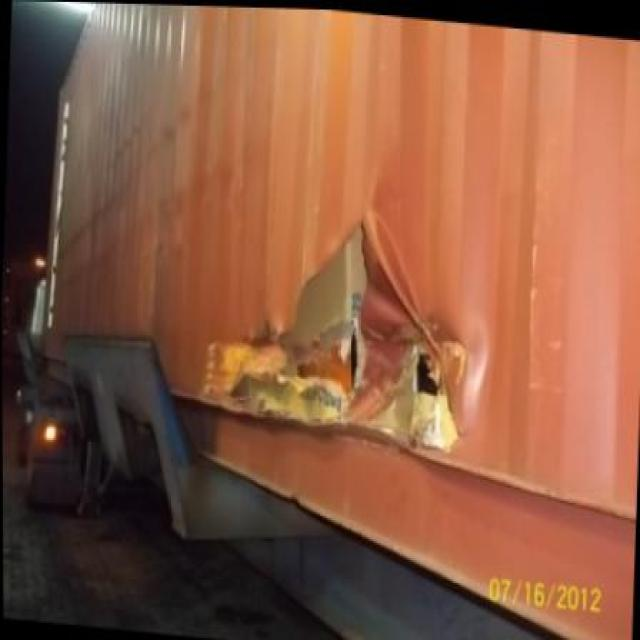hole: (209, 186, 492, 462)
